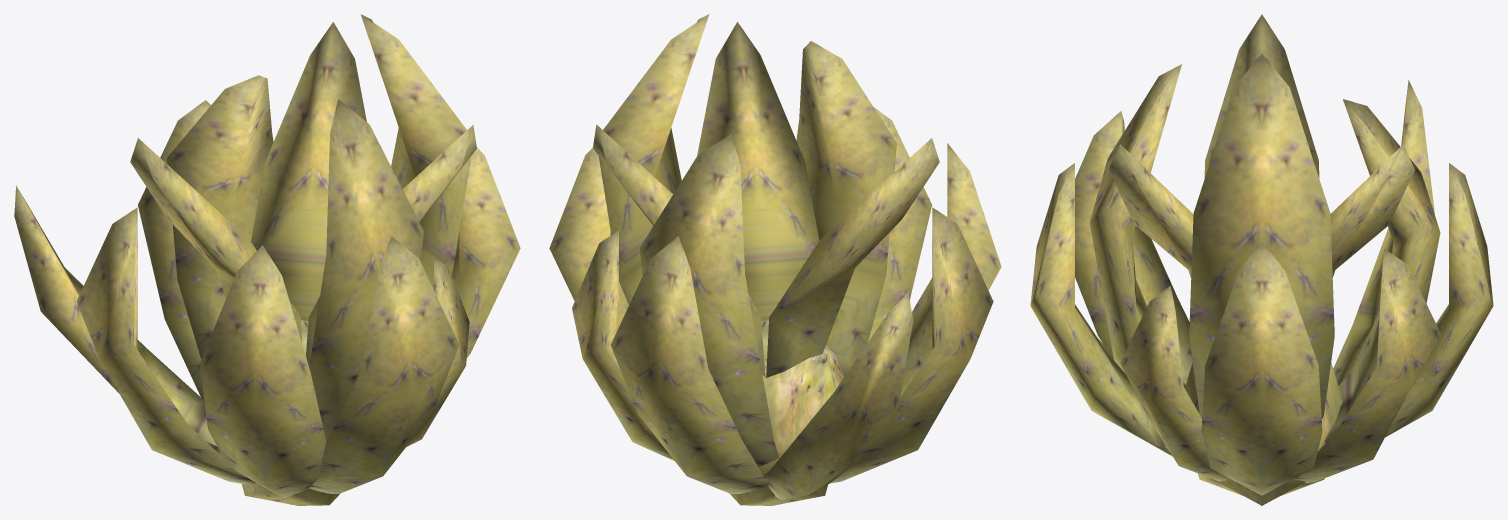
File: agave_small.dae
The picture shows the model from 3 angles, left to right: view 1: azimuth 30°, elevation 25°; view 2: azimuth 150°, elevation 25°; view 3: azimuth 270°, elevation 25°; orthographic projection.
Parts seen in each view (by area): view 1: Cube_003; view 2: Cube_003; view 3: Cube_003.
Part boxes in pixels (bbox=[...]): Cube_003: bbox=[14, 14, 520, 505]; Cube_003: bbox=[549, 14, 1001, 505]; Cube_003: bbox=[1030, 14, 1493, 505].
Bounding box in the file's own units: 3.37 × 3.26 × 3.73.
